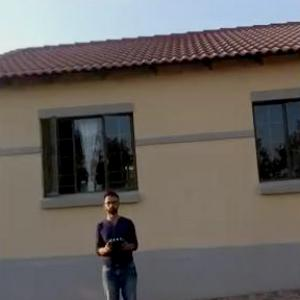follow: (91, 185, 144, 299)
